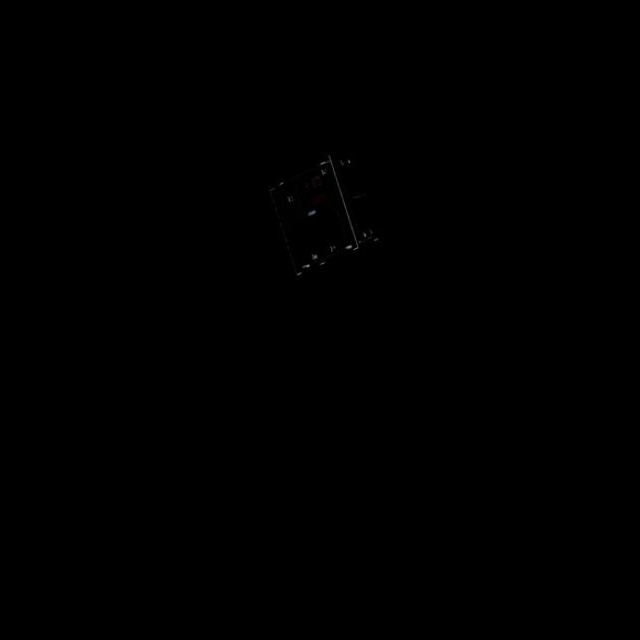satellite: (263, 145, 390, 287)
